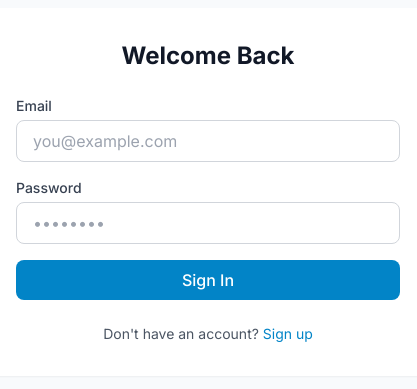
Test: LoginPage › shows error message on failed login response
Click the button "Sign In" at (208, 280), box [16,260,400,300]
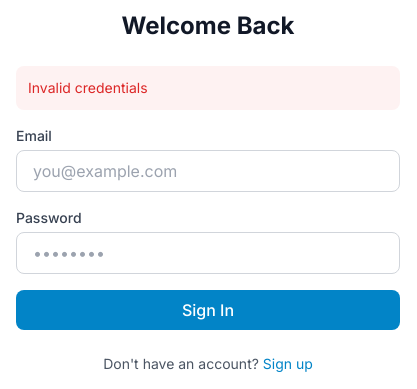
Expected: the text "Invalid credentials" is shown, [16,66,400,110]
